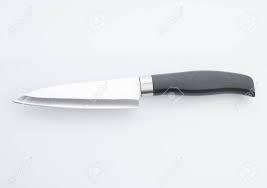Knife: (11, 69, 255, 109)
